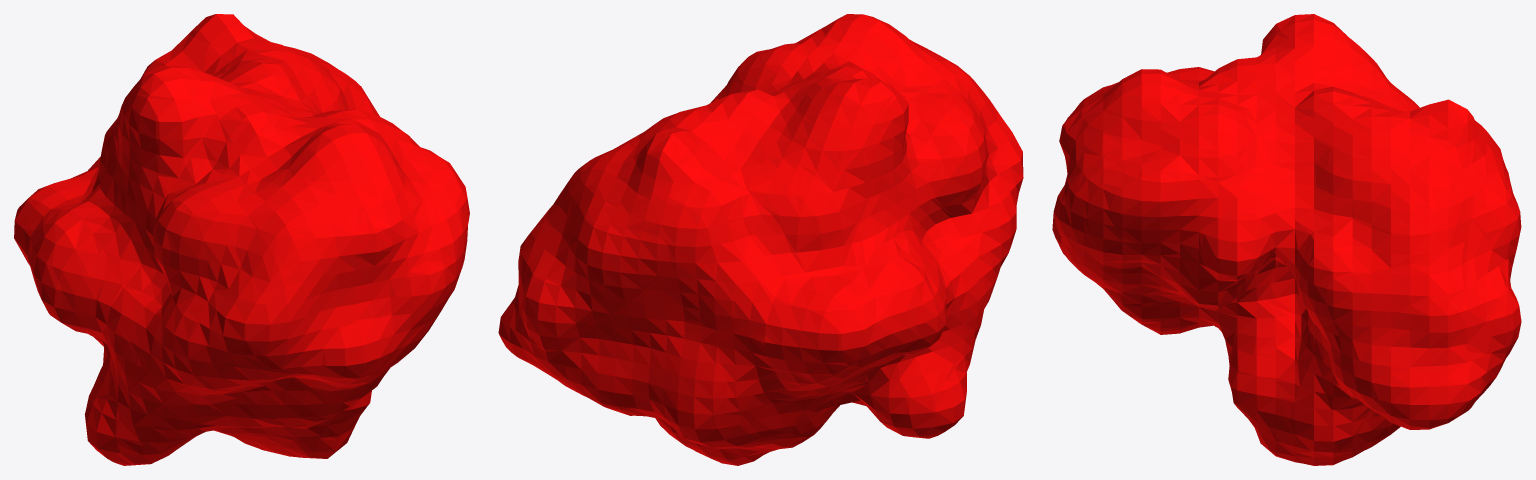
Rendered from ybiU_coarse.dae.
The picture shows the model from 3 angles, left to right: view 1: azimuth 30°, elevation 25°; view 2: azimuth 150°, elevation 25°; view 3: azimuth 270°, elevation 25°; orthographic projection. The views are drawn at different scales.
Visible parts, largest first — view 1: ybiU; view 2: ybiU; view 3: ybiU.
Part boxes in pixels (x1=…): ybiU: x1=14, y1=14, x2=469, y2=465; ybiU: x1=498, y1=14, x2=1023, y2=465; ybiU: x1=1052, y1=14, x2=1521, y2=465.
Bounding box in the file's own units: 58.25 × 57.28 × 63.13.
